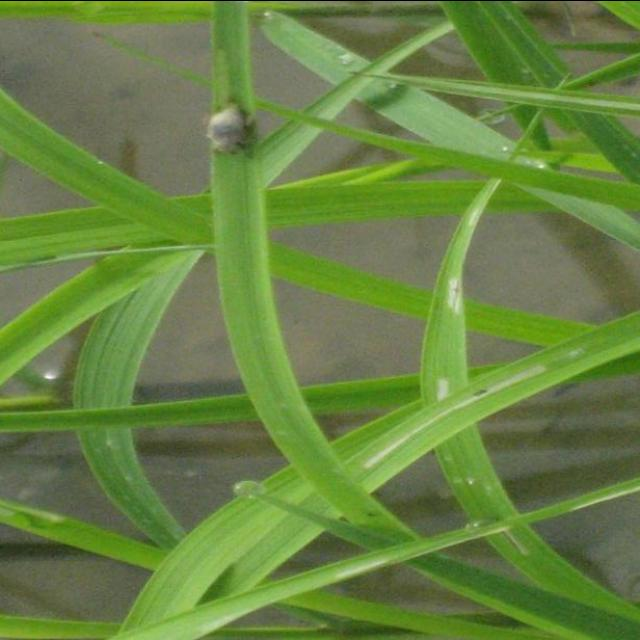ricebug: (207, 101, 252, 152)
